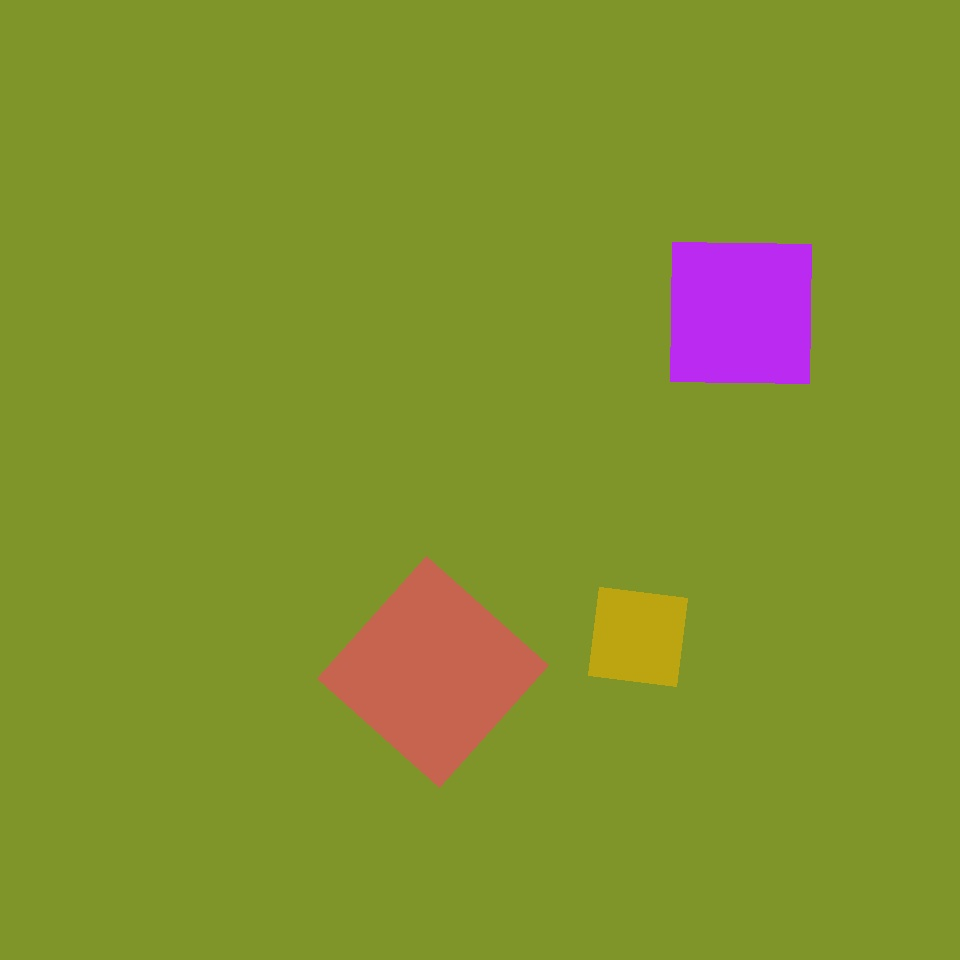circle: (188, 81, 303, 196), (453, 225, 534, 317)
square: (318, 556, 548, 788), (670, 243, 812, 384), (588, 588, 687, 686)
